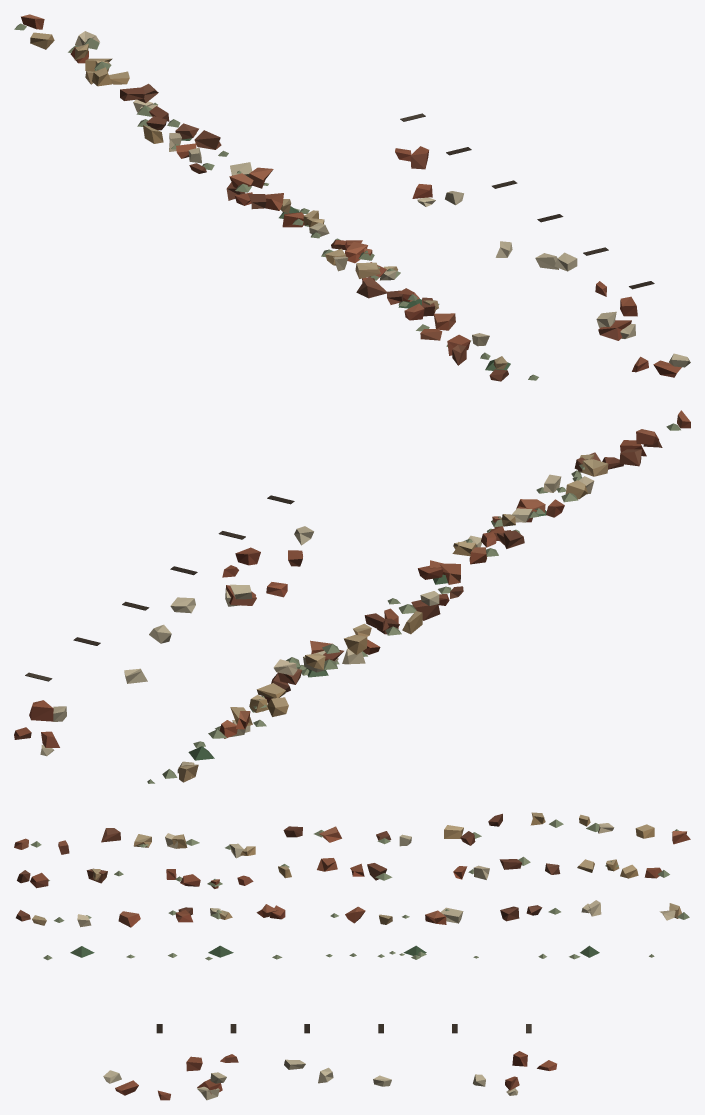
Rendered from mesa_rim_ledge_detail1.glb.
The picture shows the model from 3 angles, top to bottom: view 1: azimuth 30°, elevation 25°; view 2: azimuth 150°, elevation 25°; view 3: azimuth 270°, elevation 25°; orthographic projection. The views are drawn at different scales.
Visible parts, largest first — view 1: mesa_rim_ledge_detail1; view 2: mesa_rim_ledge_detail1; view 3: mesa_rim_ledge_detail1.
Boxes of the visible parts, x1,y1,x2,y2 form: mesa_rim_ledge_detail1: [14, 14, 690, 381]; mesa_rim_ledge_detail1: [14, 410, 690, 783]; mesa_rim_ledge_detail1: [14, 812, 690, 1100].
Size of the model in its own units: 27.17 by 15.9 by 58.69.
